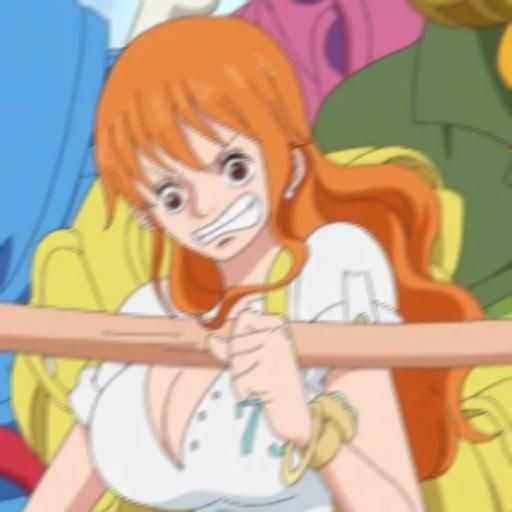Nami: (20, 15, 448, 512)
